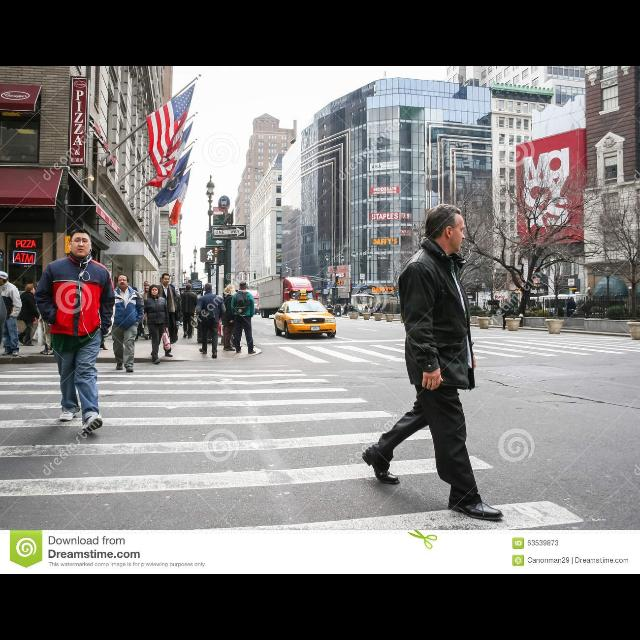head: (424, 204, 466, 252), (70, 230, 92, 258), (116, 274, 130, 290), (162, 272, 172, 286), (150, 286, 160, 296), (26, 284, 36, 294), (1, 271, 8, 285), (239, 280, 247, 292), (227, 284, 236, 294), (130, 287, 138, 297), (204, 284, 213, 292), (185, 284, 192, 292), (37, 283, 44, 291), (144, 280, 150, 288), (145, 285, 151, 293), (505, 300, 509, 304)
person: (354, 199, 512, 527), (34, 224, 124, 442), (106, 270, 146, 376), (136, 285, 172, 367), (194, 282, 228, 364), (150, 272, 184, 350), (30, 278, 60, 358), (0, 265, 24, 361), (230, 280, 258, 358), (12, 280, 44, 348), (120, 285, 146, 345), (220, 284, 240, 354), (177, 284, 200, 342), (135, 279, 155, 339), (137, 284, 157, 342), (500, 300, 516, 332)
